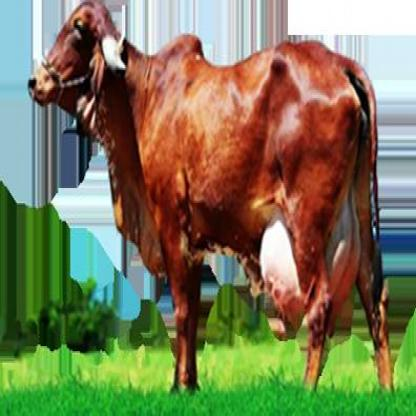cow: (27, 1, 394, 393)
